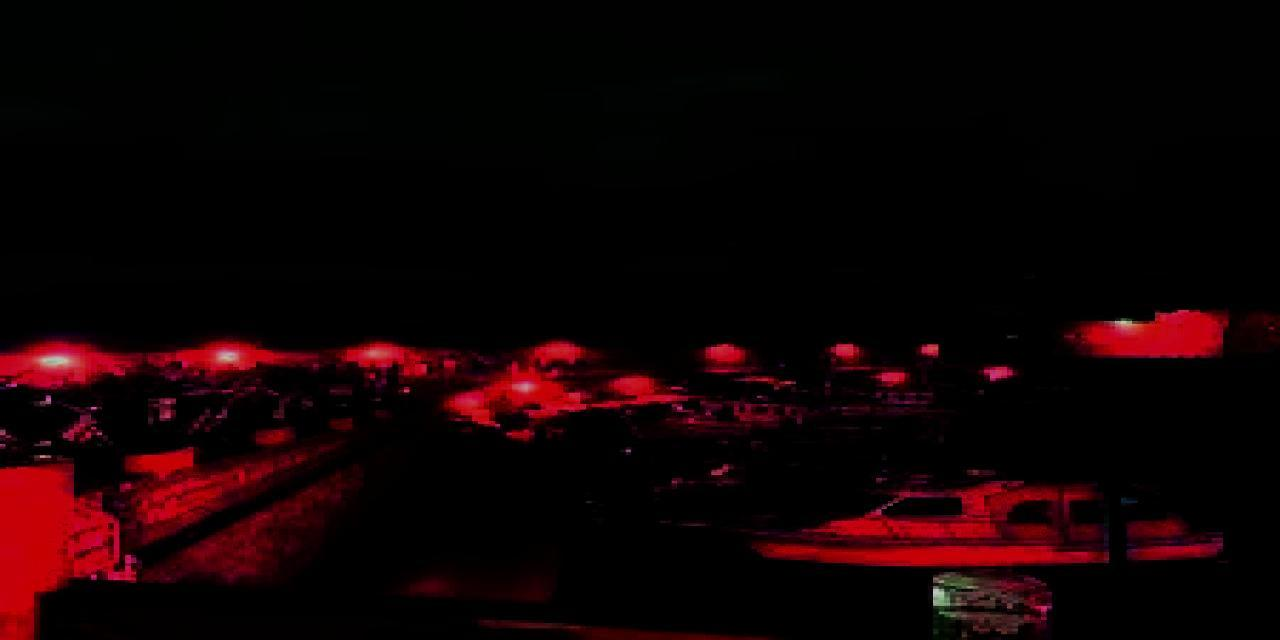Kules: (979, 306, 1280, 364)
